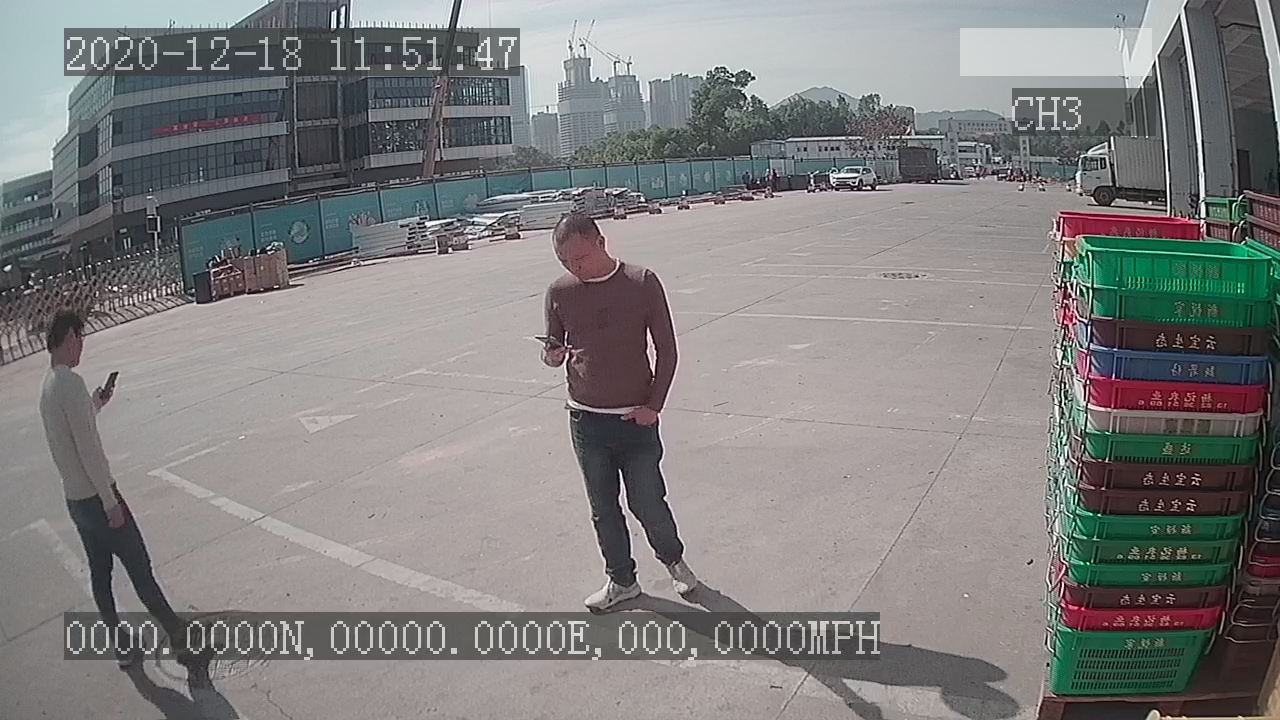person: (520, 204, 706, 613)
